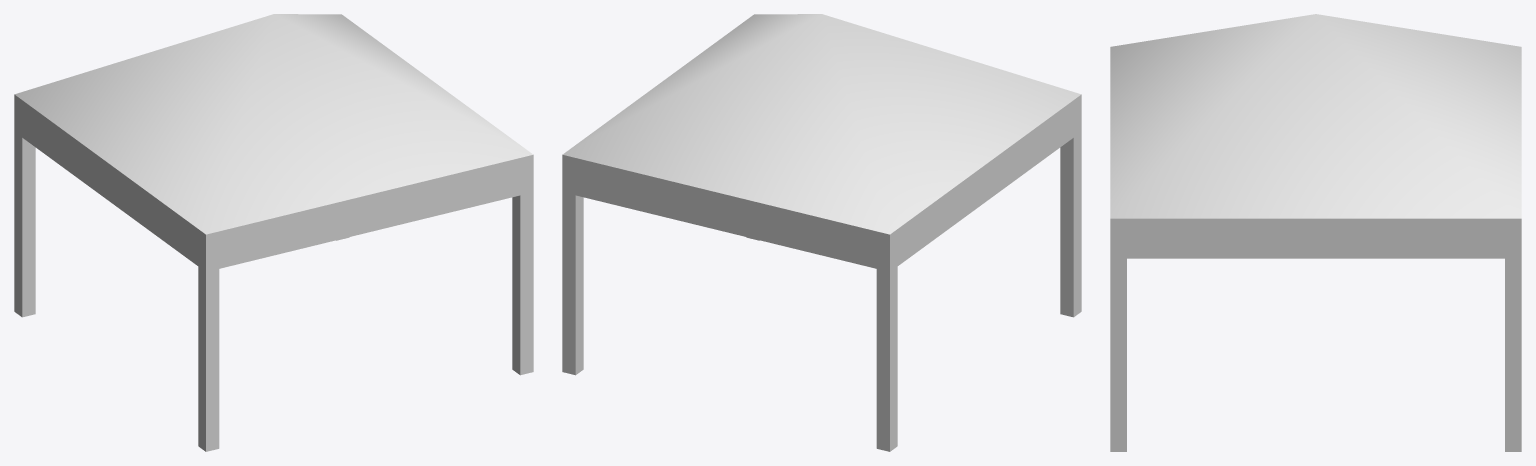
The model's file is Gazebo.FBX.
3 renders of one model, left to right at view 1: azimuth 30°, elevation 25°; view 2: azimuth 150°, elevation 25°; view 3: azimuth 270°, elevation 25°, orthographic. The views are drawn at different scales.
Visible parts, largest first — view 1: Box001; view 2: Box001; view 3: Box001.
Boxes of the visible parts, box(x1,y1,x2,y2) form: Box001: box(14, 14, 533, 451); Box001: box(562, 14, 1081, 451); Box001: box(1110, 14, 1521, 451).
Bounding box in the file's own units: 0.502 × 0.4802 × 0.5086.
Materials: 1 (1 with a texture image).
